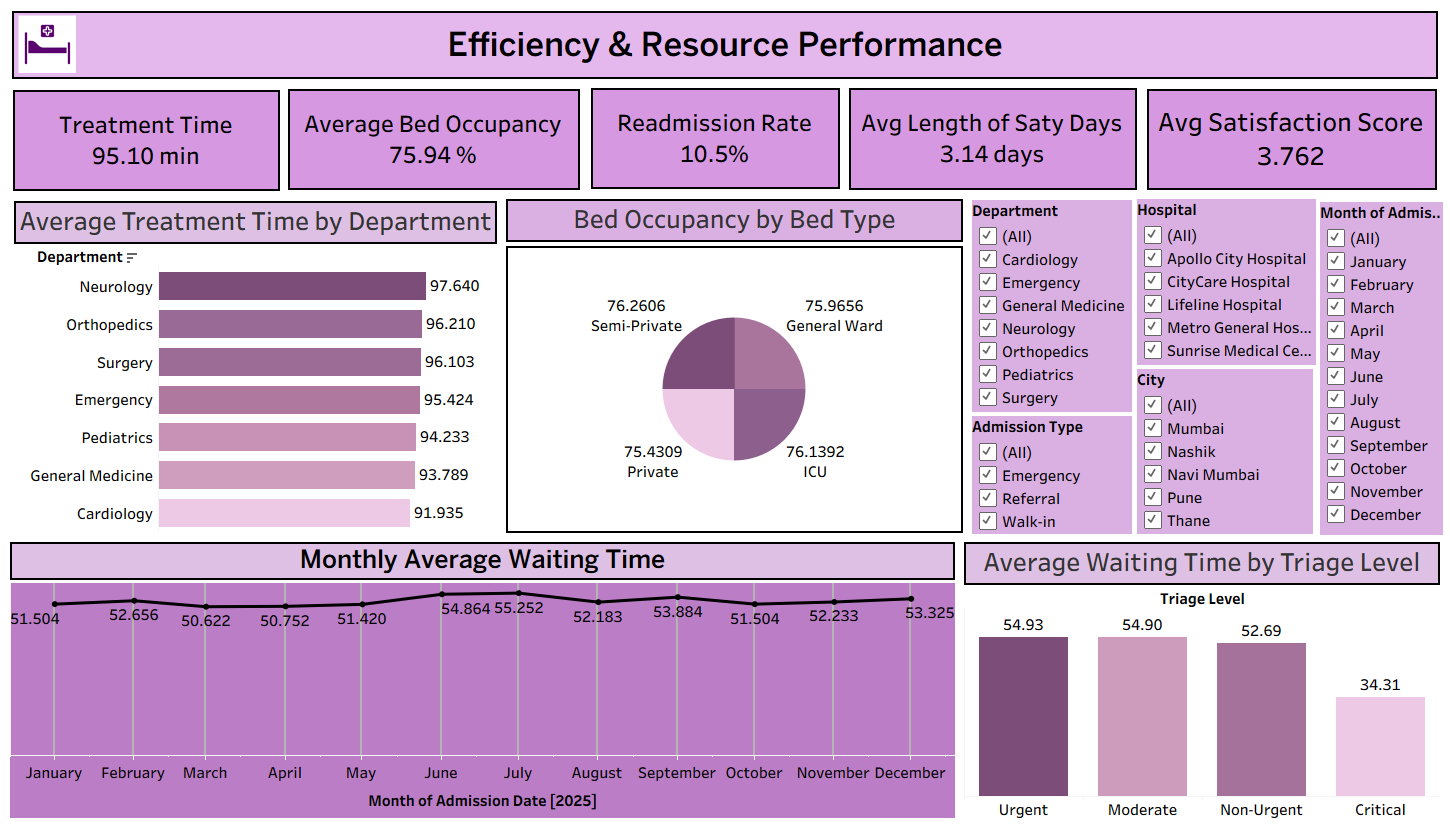

What the dashboard file says about the page in this screenshot:
{"tool":"tableau","page":{"name":"Efficiency & Resources Performance","canvas":[1450,830],"ordinal":0},"visuals":[{"type":"title","box":[8,8,1434,76]},{"type":"image","param":"C:/Users/SONALI/Downloads/bed.jpg","box":[18,16,73,58]},{"type":"worksheet","title":"Readmission Rate","mark":"Automatic","box":[590,73,250,117]},{"type":"worksheet","title":"Average Length of Stay","mark":"Automatic","box":[848,73,289,118]},{"type":"worksheet","title":"Average Bed Occupancy","mark":"Automatic","box":[287,74,293,117]},{"type":"worksheet","title":"avg satisfactn score (2)","mark":"Automatic","box":[1146,74,291,117]},{"type":"worksheet","title":"3-Average Treatment Time","mark":"Automatic","box":[12,75,268,117]},{"type":"worksheet","title":"Bed Occupancy by Bed Type","mark":"Pie","box":[505,200,458,334]},{"type":"filter","title":"3-Average Treatment Time","param":"[federated.129wrcv0q0yms616yjgnn19gktfg].[none:Hospital:nk]","box":[1137,200,179,166]},{"type":"filter","title":"3-Average Treatment Time","param":"[federated.129wrcv0q0yms616yjgnn19gktfg].[none:Department:nk]","box":[972,201,160,212]},{"type":"worksheet","title":"Average Treatment Time by Department","mark":"Automatic","rows":["Department"],"cols":["Treatment_Time_Minutes"],"box":[14,202,483,331]},{"type":"filter","title":"3-Average Treatment Time","param":"[federated.129wrcv0q0yms616yjgnn19gktfg].[mn:Admission_Date:ok]","box":[1320,203,123,333]},{"type":"filter","title":"3-Average Treatment Time","param":"[federated.129wrcv0q0yms616yjgnn19gktfg].[none:City:nk]","box":[1137,370,176,165]},{"type":"filter","title":"3-Average Treatment Time","param":"[federated.129wrcv0q0yms616yjgnn19gktfg].[none:Admission_Type:nk]","box":[972,417,160,118]},{"type":"worksheet","title":"Average Length of Stay by Bed Type","mark":"Line","rows":["Waiting_Time_Minutes"],"cols":["Admission_Date"],"box":[10,543,945,276]},{"type":"worksheet","title":"Average Waiting Time by Triage Level","mark":"Automatic","rows":["Waiting_Time_Minutes"],"cols":["Triage_Level"],"box":[964,543,476,279]}]}

Visuals, with their boxes in screenshot pixels (x1, y1, x2, y2), scaled from the page's 1450x830 canvas onto the 1450x828 screenshot:
title: bbox(8, 8, 1442, 84)
image: bbox(18, 16, 91, 74)
"Readmission Rate" worksheet: bbox(590, 73, 840, 190)
"Average Length of Stay" worksheet: bbox(848, 73, 1137, 191)
"Average Bed Occupancy" worksheet: bbox(287, 74, 580, 191)
"avg satisfactn score (2)" worksheet: bbox(1146, 74, 1437, 191)
"3-Average Treatment Time" worksheet: bbox(12, 75, 280, 192)
"Bed Occupancy by Bed Type" worksheet (Pie marks): bbox(505, 200, 963, 533)
"3-Average Treatment Time" filter: bbox(1137, 200, 1316, 365)
"3-Average Treatment Time" filter: bbox(972, 201, 1132, 412)
"Average Treatment Time by Department" worksheet: bbox(14, 202, 497, 532)
"3-Average Treatment Time" filter: bbox(1320, 203, 1443, 535)
"3-Average Treatment Time" filter: bbox(1137, 369, 1313, 534)
"3-Average Treatment Time" filter: bbox(972, 416, 1132, 534)
"Average Length of Stay by Bed Type" worksheet (Line marks): bbox(10, 542, 955, 817)
"Average Waiting Time by Triage Level" worksheet: bbox(964, 542, 1440, 820)
